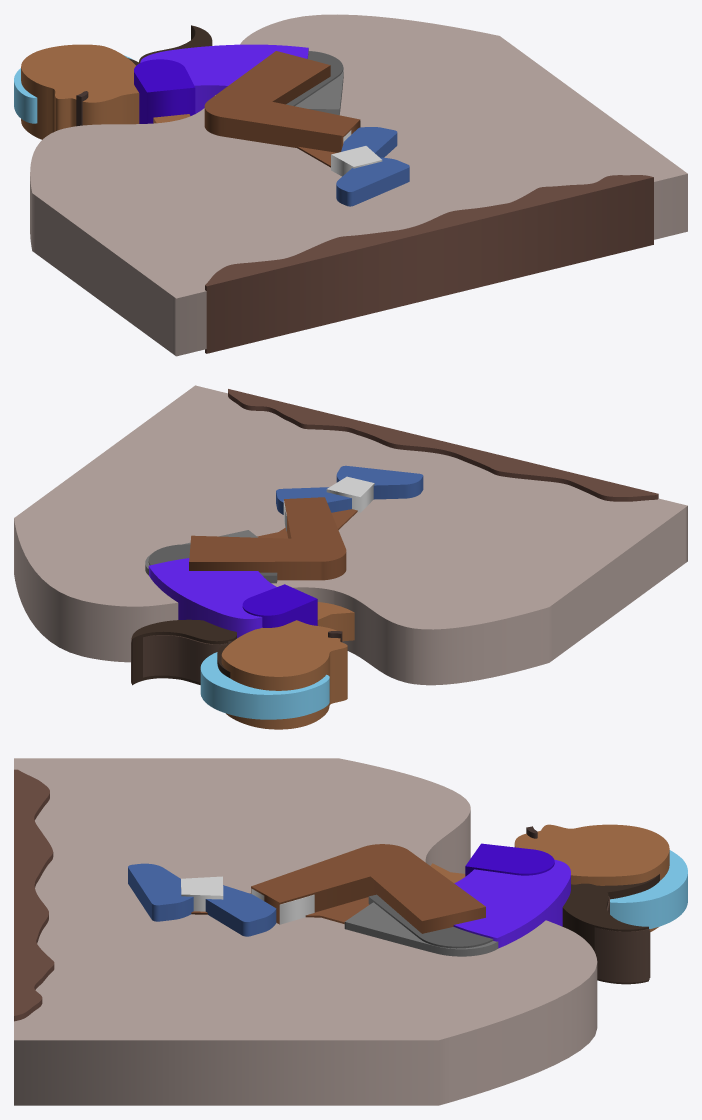
File: emoji_u1f6b5_1f3fe_200d_2640.glb
3 renders of one model, top to bottom at view 1: azimuth 30°, elevation 25°; view 2: azimuth 150°, elevation 25°; view 3: azimuth 270°, elevation 25°, orthographic. The views are drawn at different scales.
Visible parts, largest first — view 1: emoji_u1f6b5_1f3fe_200d_2640; view 2: emoji_u1f6b5_1f3fe_200d_2640; view 3: emoji_u1f6b5_1f3fe_200d_2640.
Part boxes in pixels (x1,y1,x2,y2): emoji_u1f6b5_1f3fe_200d_2640: [14, 14, 687, 356]; emoji_u1f6b5_1f3fe_200d_2640: [14, 385, 687, 729]; emoji_u1f6b5_1f3fe_200d_2640: [14, 758, 687, 1105].
Bounding box in the file's own units: 0.0333 × 0.006 × 0.0336.
